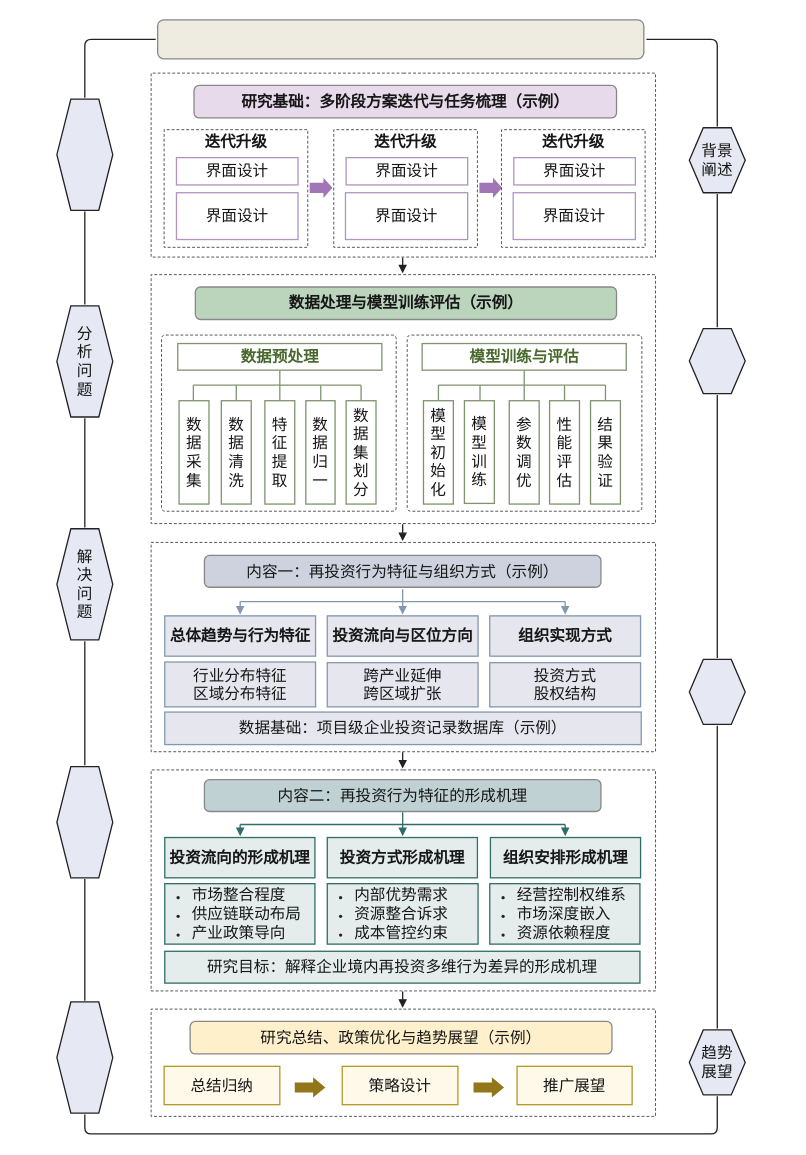
The diagram is 806 pixels wide and 1155 high, and some of its shapes have lost their labels. The box of each missing label's shape, as (x1, y1, x2, y2) in pixels:
提 出 问 题: (56, 98, 113, 211)
政 策 建 议: (56, 1001, 113, 1113)
机制 分析: (688, 658, 746, 725)
理论 框架: (688, 328, 746, 394)
课题名称：企业再投资行为特征与促进机制研究（示例）: (157, 19, 644, 59)
重 构 路 径: (56, 766, 113, 878)
